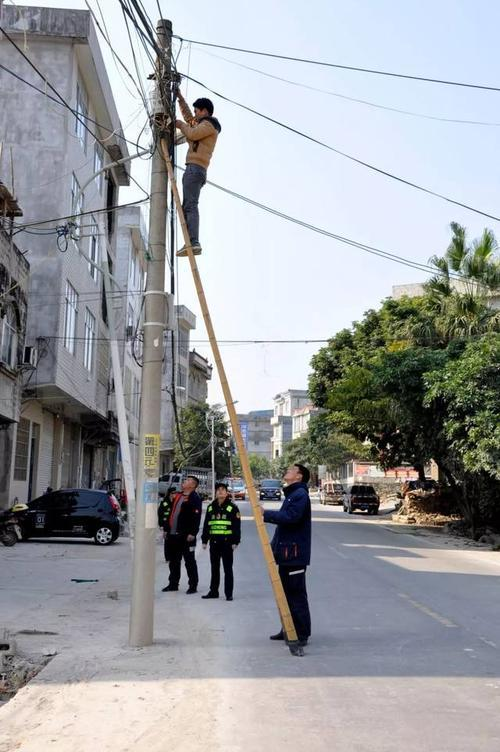安全帽、安全绳，工作服均未佩戴的工作人员: (172, 85, 222, 257)
未带安全帽的工作人员: (259, 461, 313, 646), (156, 475, 203, 594), (202, 481, 242, 602)
